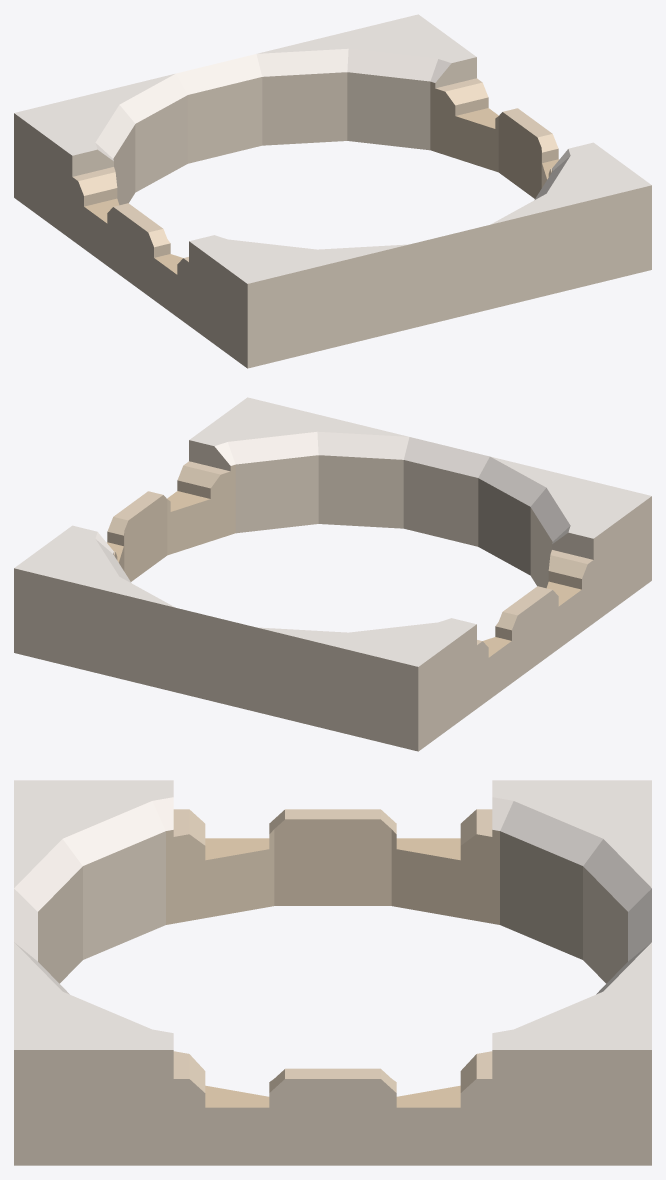
Rendered from Puzzle_Track_Rotating_Housing_Straight.glb.
3 renders of one model, top to bottom at view 1: azimuth 30°, elevation 25°; view 2: azimuth 150°, elevation 25°; view 3: azimuth 270°, elevation 25°, orthographic. The views are drawn at different scales.
Parts seen in each view (by area): view 1: Puzzle_Track_Rotating_Housing_Straight; view 2: Puzzle_Track_Rotating_Housing_Straight; view 3: Puzzle_Track_Rotating_Housing_Straight.
Boxes of the visible parts, left/top/right/bottom form: Puzzle_Track_Rotating_Housing_Straight: left=14, top=14, right=651, bottom=368; Puzzle_Track_Rotating_Housing_Straight: left=14, top=397, right=651, bottom=751; Puzzle_Track_Rotating_Housing_Straight: left=14, top=780, right=651, bottom=1165.
Bounding box in the file's own units: 1 × 0.2 × 1.
